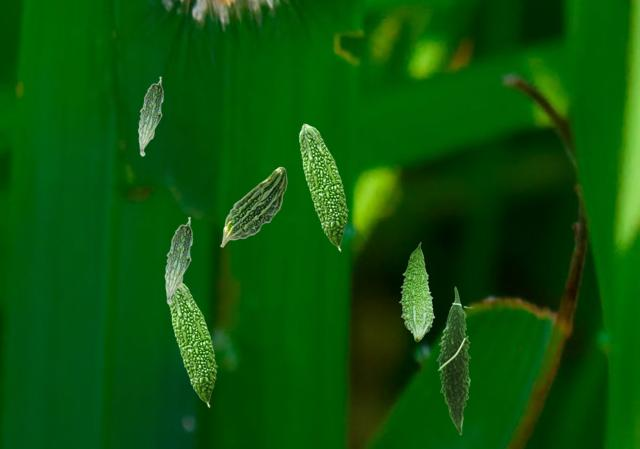ampalaya: (298, 123, 349, 252), (169, 283, 218, 408), (436, 286, 475, 435), (219, 166, 287, 247), (398, 241, 435, 342), (164, 216, 193, 305), (137, 76, 164, 157)
